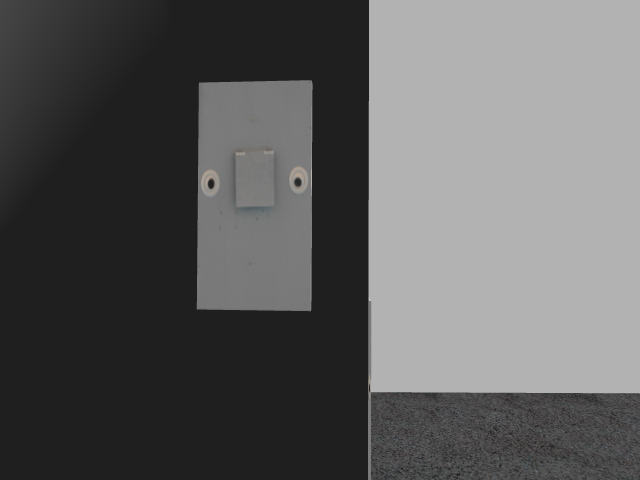facade: (201, 146, 307, 211)
